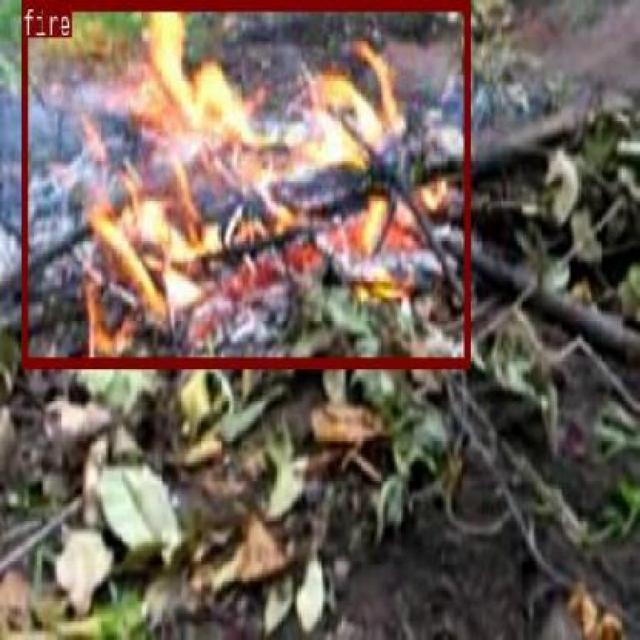Fire: (22, 0, 470, 365)
